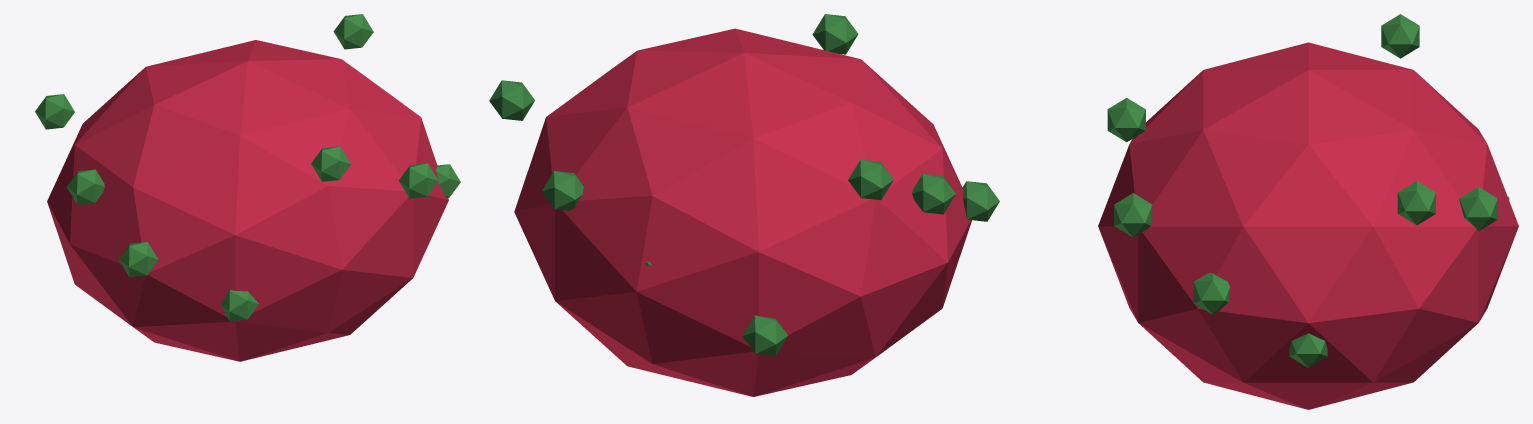
The model's file is M22_BerryBush.fbx.
The picture shows the model from 3 angles, left to right: view 1: azimuth 30°, elevation 25°; view 2: azimuth 150°, elevation 25°; view 3: azimuth 270°, elevation 25°; orthographic projection. The views are drawn at different scales.
Visible parts, largest first — view 1: M22_BerryBush; view 2: M22_BerryBush; view 3: M22_BerryBush.
Part boxes in pixels (left/top/right/bottom): M22_BerryBush: left=35, top=14, right=460, bottom=361; M22_BerryBush: left=489, top=14, right=999, bottom=396; M22_BerryBush: left=1098, top=14, right=1518, bottom=409.
Bounding box in the file's own units: 4.84 × 3.13 × 3.74.
Materials: 1 (1 with a texture image).
